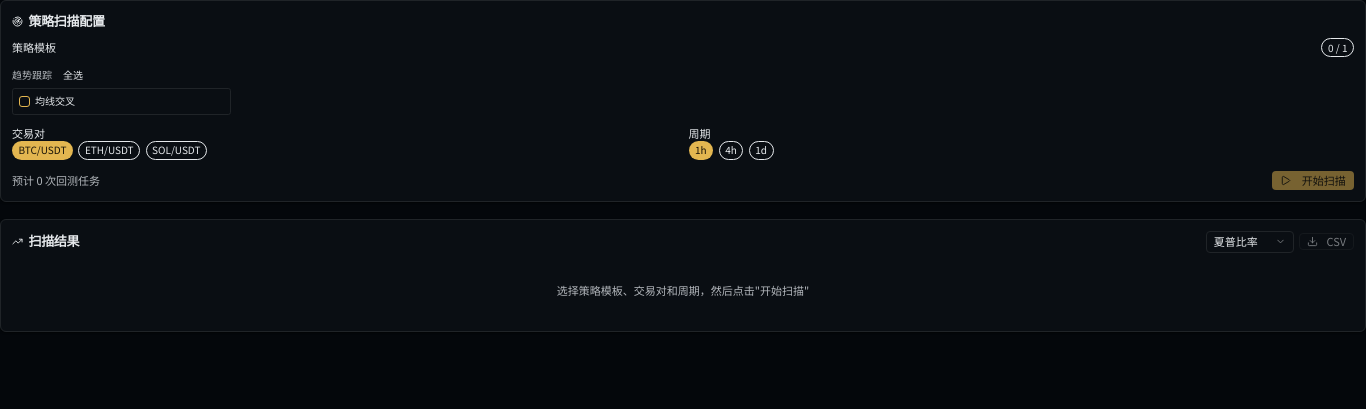
Scenario: 扫描期间不伪造结果 › progress 长时间不动会显示「最后进展 N 秒前」与停滞标记
Click the checkbox: (24, 101) [18,96,30,107]
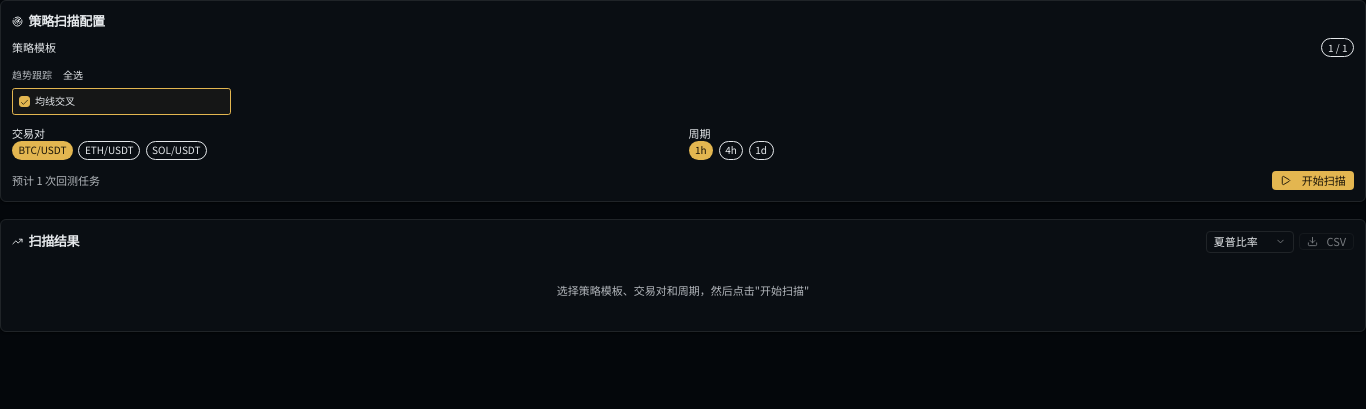
Click the button "开始扫描": (1313, 180) [1272,171,1354,190]
Wait 130000 ms
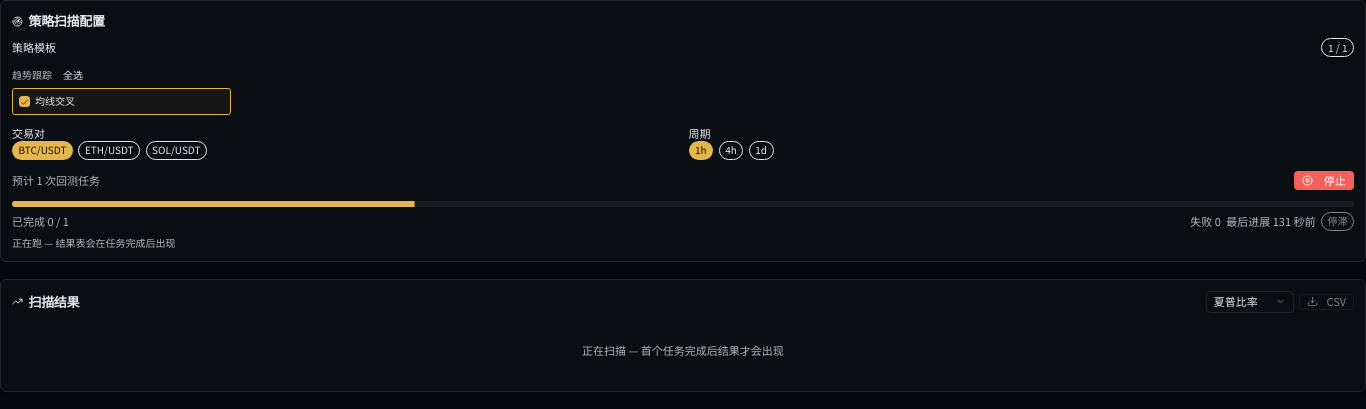
Expected: the text "最后进展 131 秒前" is shown, [1226,214,1316,229]
Expected: the text "停滞" is shown, [1321,212,1354,231]
